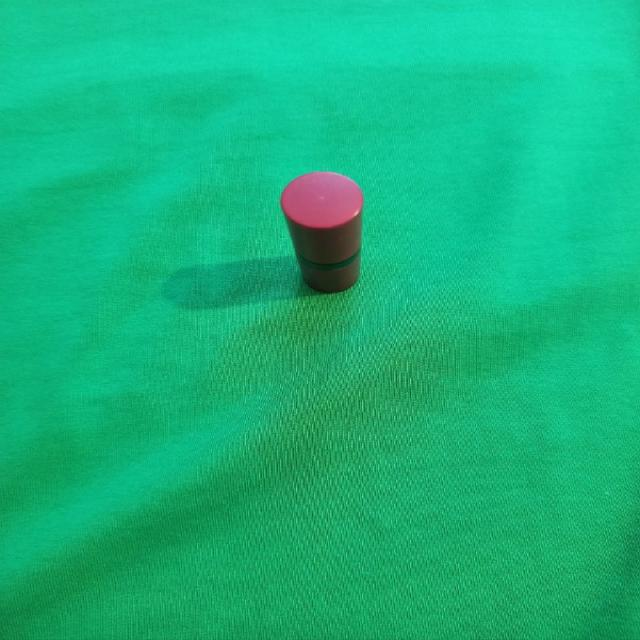lipstick: (279, 170, 363, 294)
